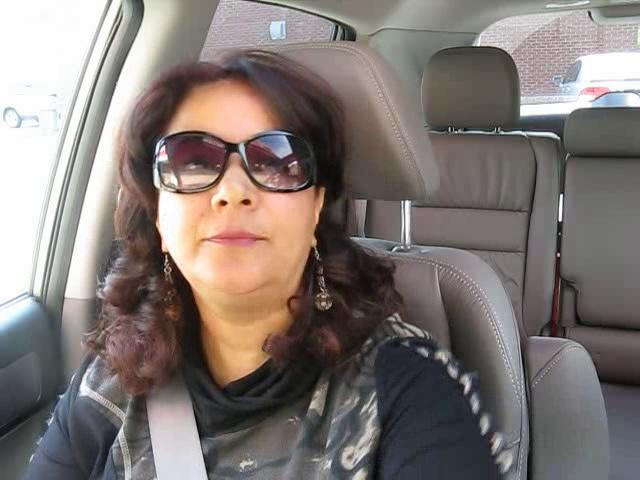no_yawn: (188, 215, 276, 260)
